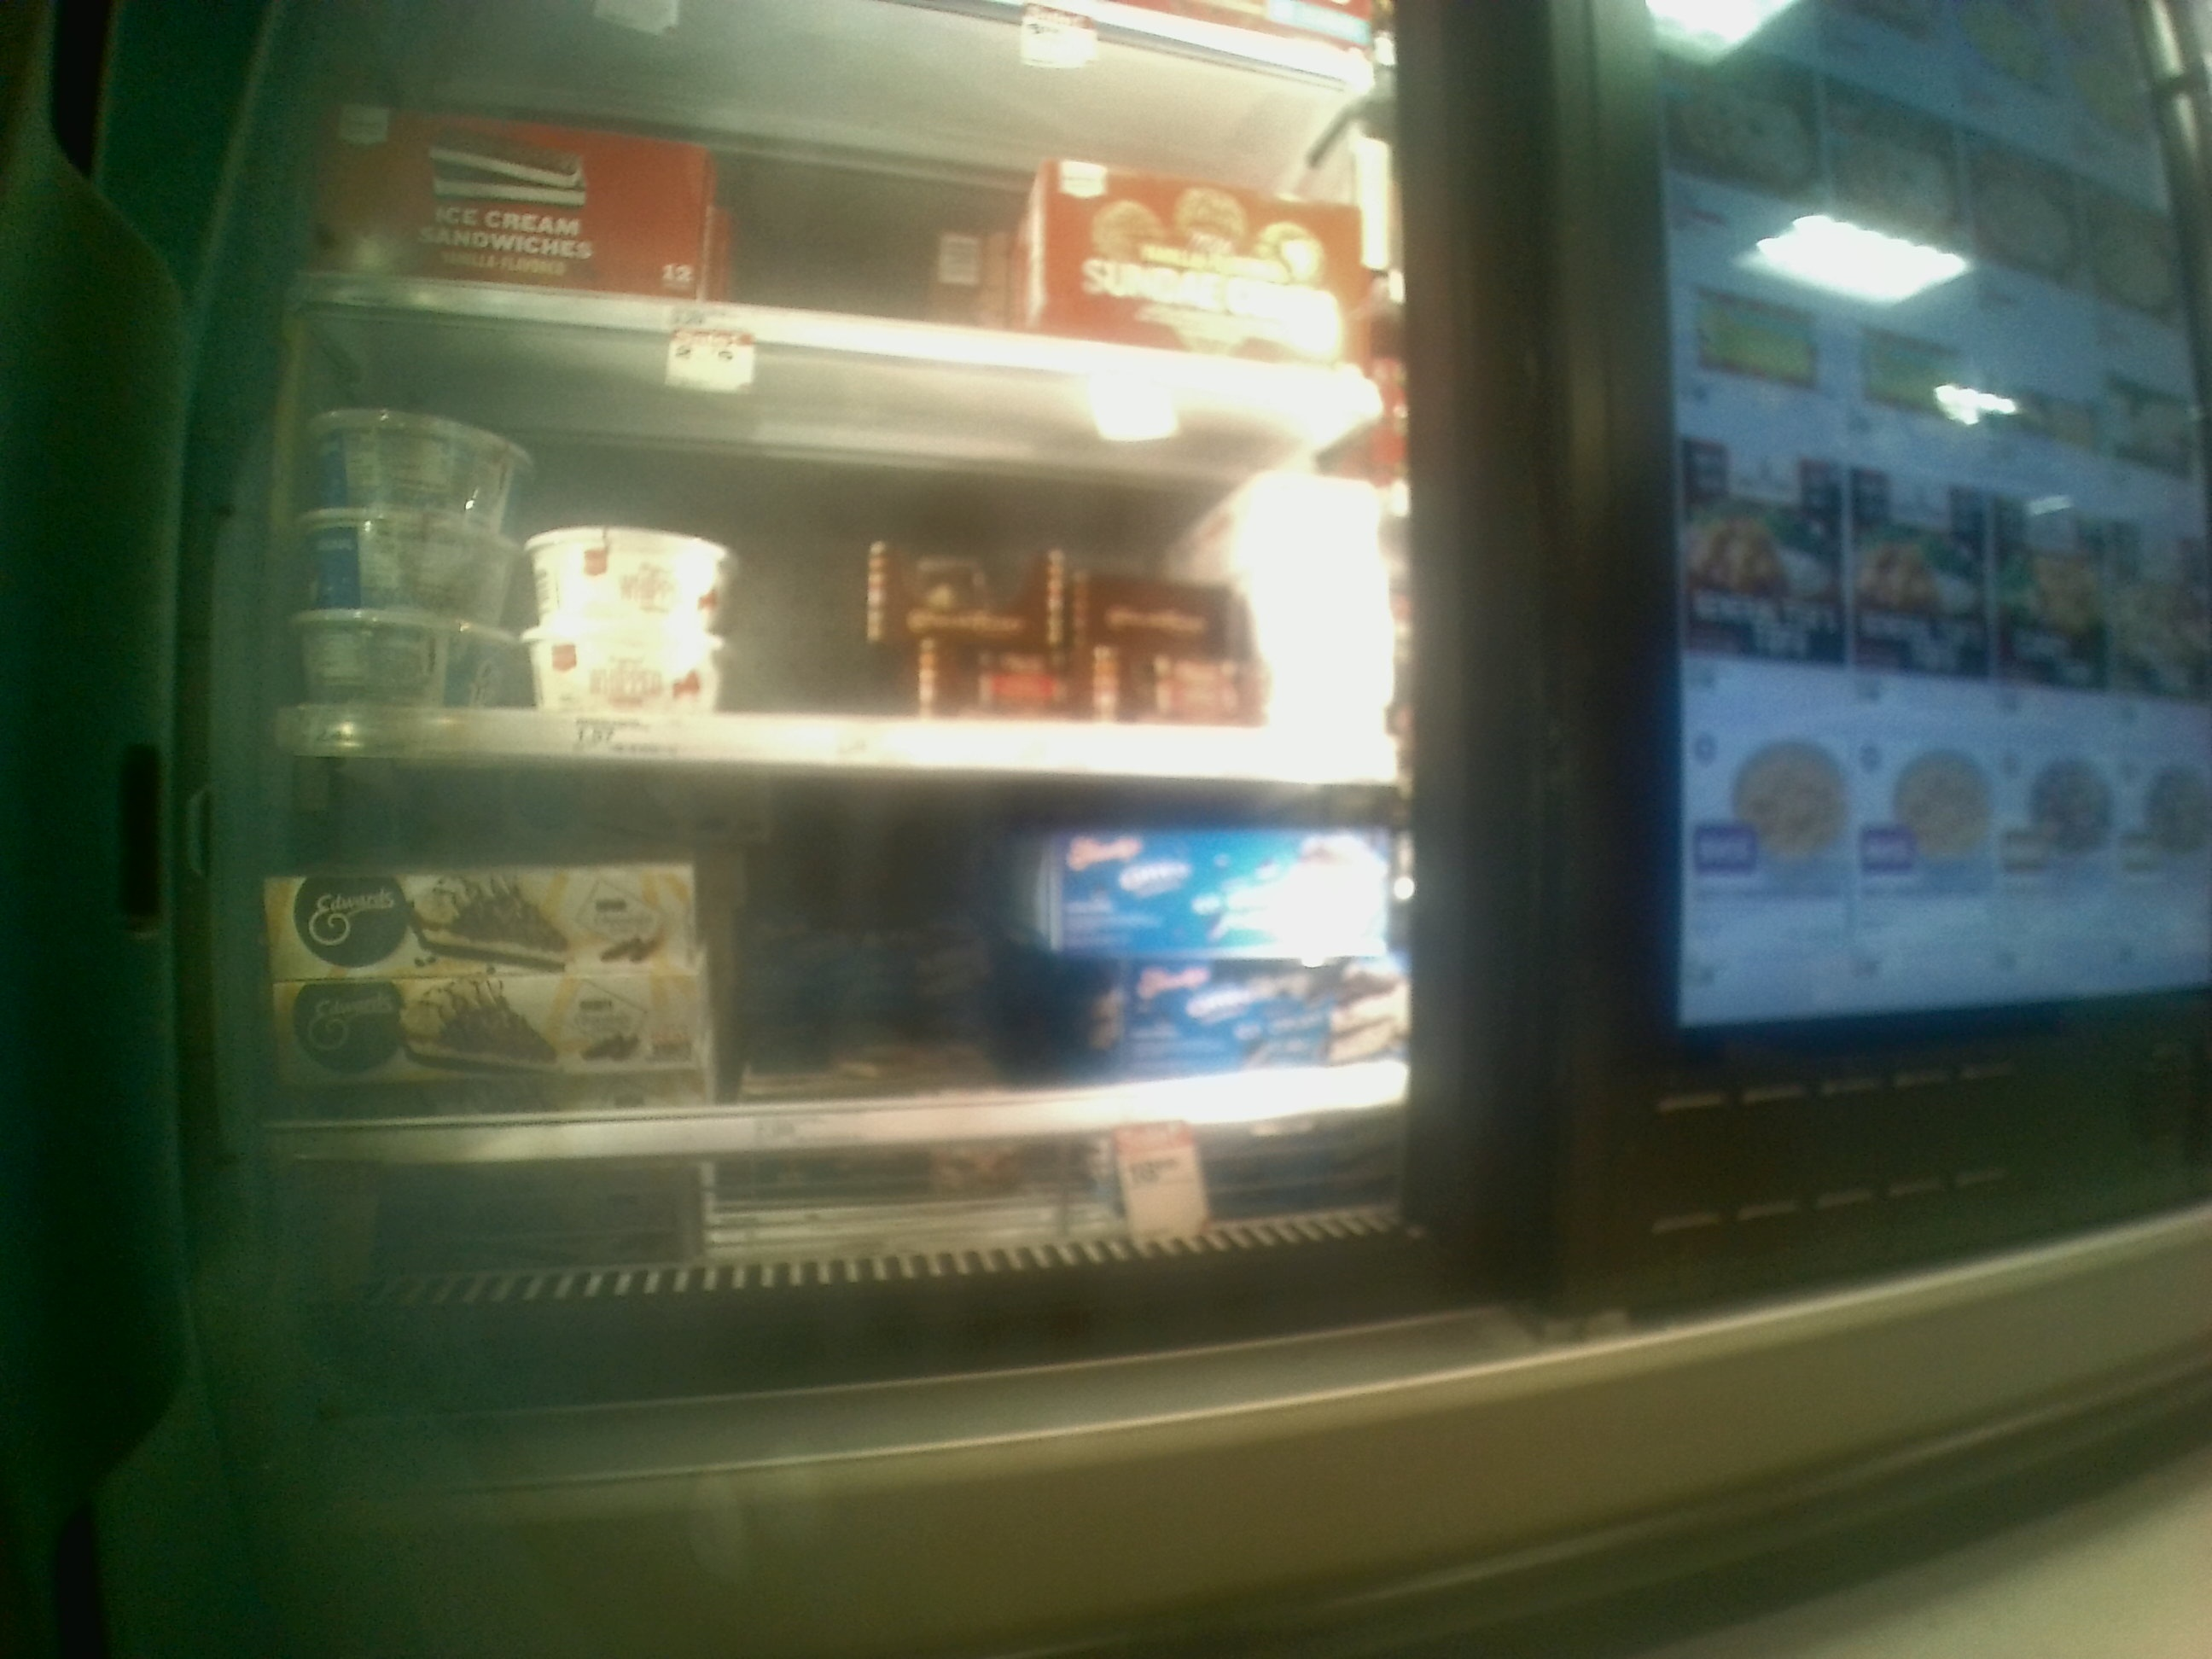shelf: (127, 763, 1430, 1220), (273, 300, 1400, 791)
